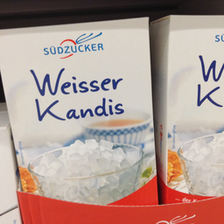sugar: (1, 15, 159, 206), (152, 14, 223, 204)
